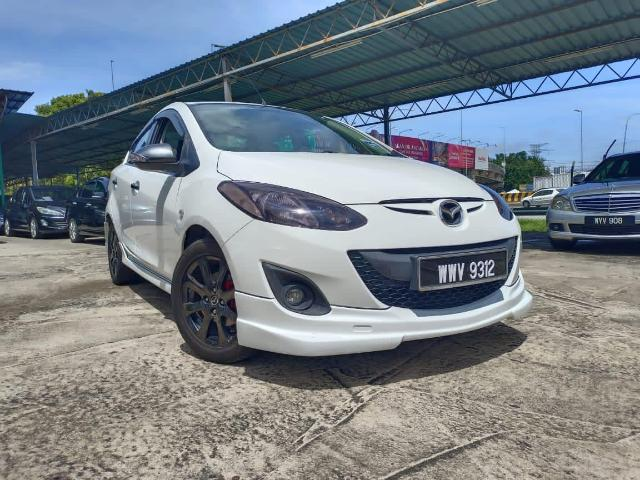License_Plate: (424, 254, 508, 294), (583, 213, 633, 229)
